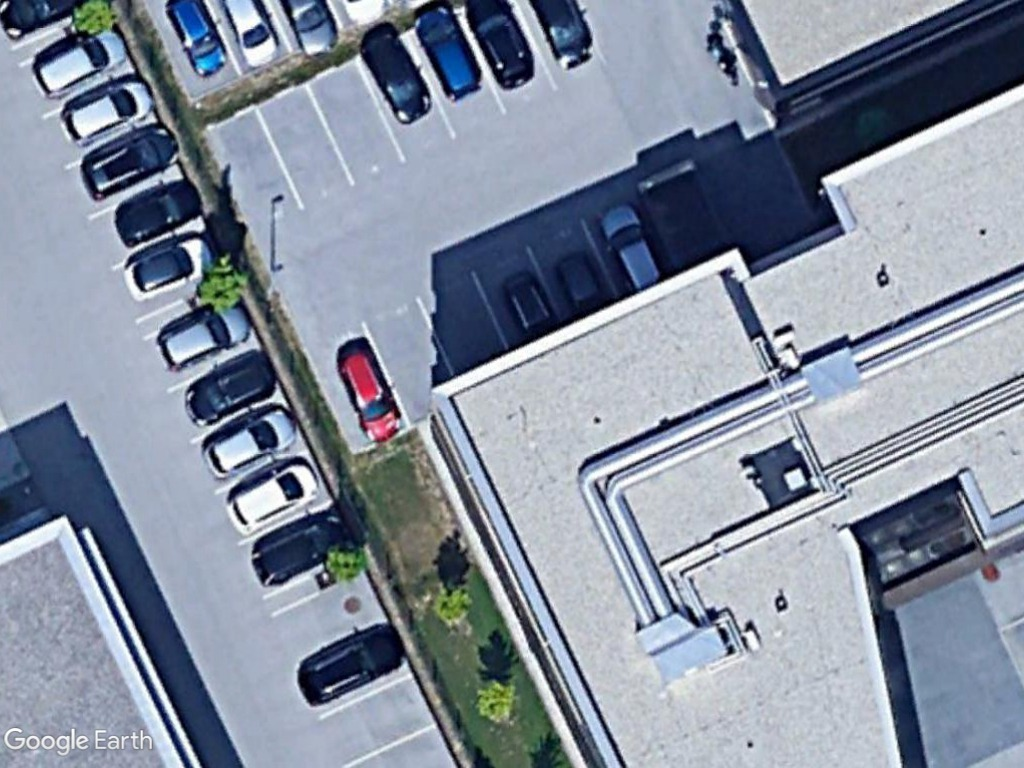car: (297, 616, 406, 710), (352, 26, 439, 126), (79, 120, 182, 202), (248, 508, 348, 592), (180, 346, 280, 429), (221, 456, 321, 536), (153, 298, 254, 376), (200, 401, 298, 481), (32, 25, 131, 102), (335, 345, 407, 448), (110, 175, 203, 252), (60, 75, 159, 146), (411, 3, 480, 102), (120, 232, 215, 303), (594, 200, 663, 294)
